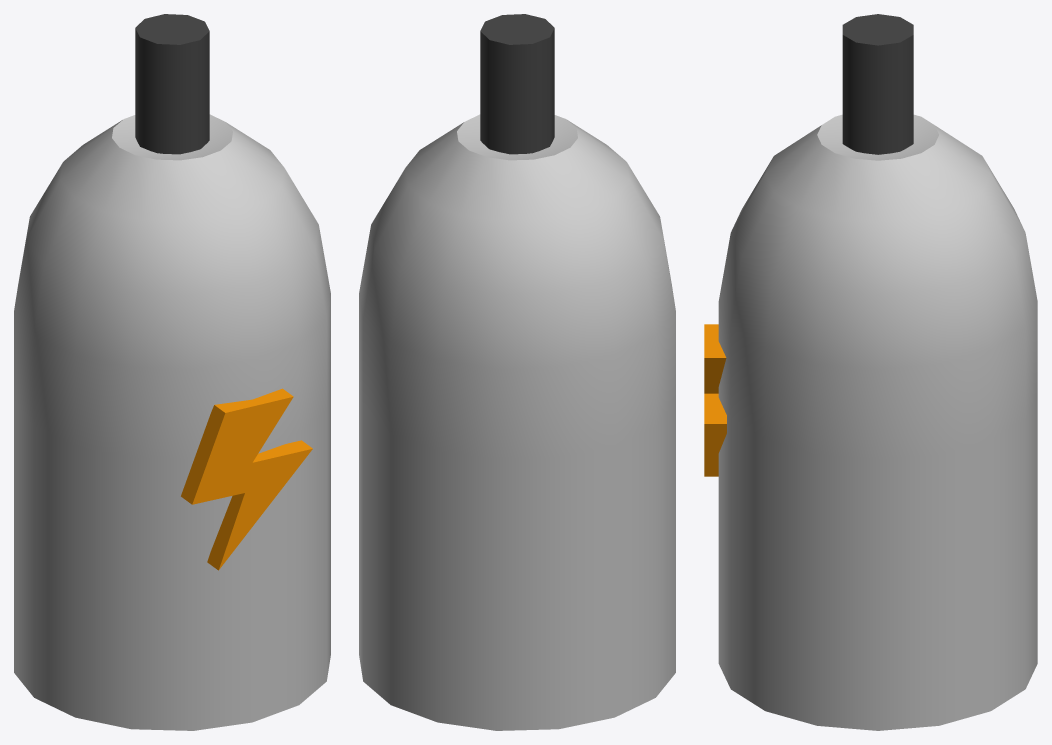
The model's file is speedCap.fbx.
3 views of the same model, side by side, from view 1: azimuth 30°, elevation 25°; view 2: azimuth 150°, elevation 25°; view 3: azimuth 270°, elevation 25° (orthographic).
Visible parts, largest first — view 1: Capsule, powerup, Cylinder; view 2: Capsule, Cylinder; view 3: Capsule, Cylinder, powerup.
Part boxes in pixels (x1,y1,x2,y2): Capsule: (14,114,330,730); powerup: (181,388,312,570); Cylinder: (135,14,209,154); Capsule: (359,114,675,730); Cylinder: (480,14,554,154); Capsule: (718,114,1037,730); Cylinder: (842,14,913,154); powerup: (704,324,726,476).
Bounding box in the file's own units: 80 × 175 × 83.6.
